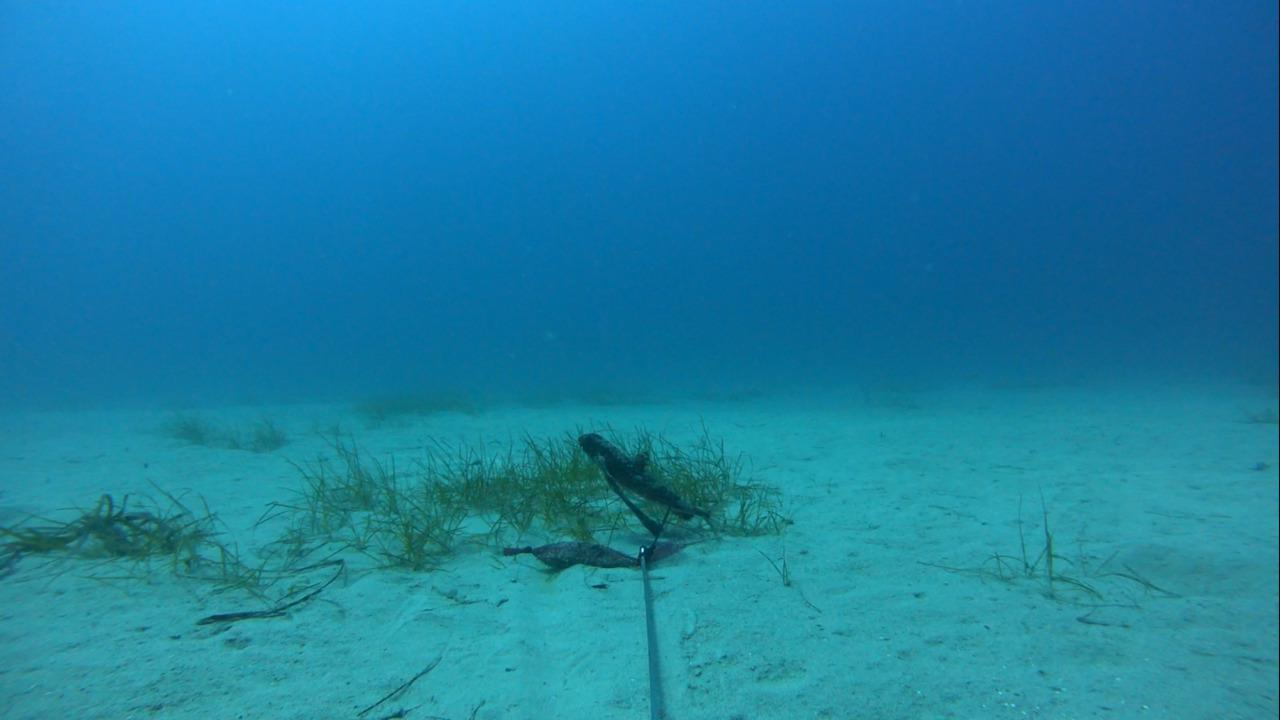dactylopterus: (570, 426, 723, 545)
